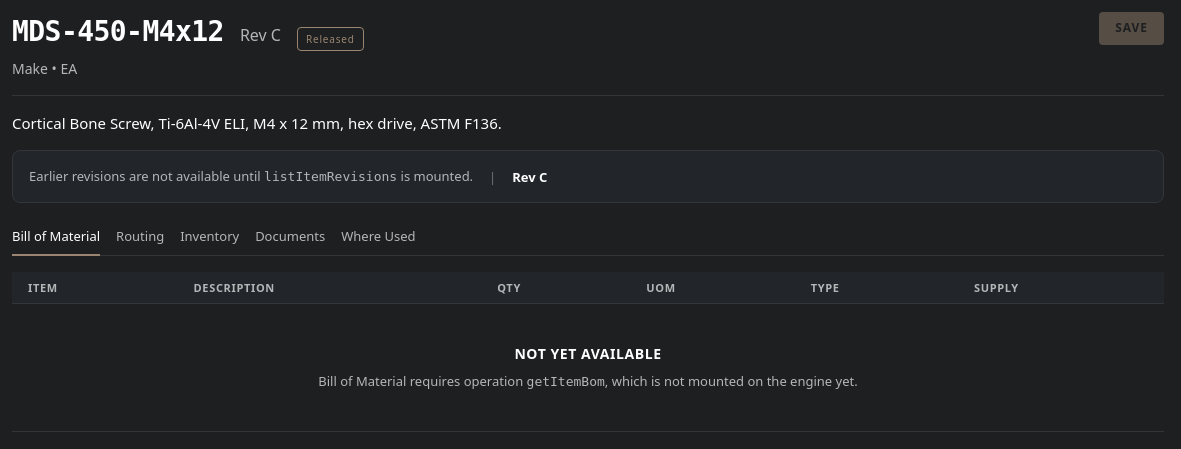
Test case: item master screen › shows a Not yet available state on the {"operationId":"getItemRouting","label":"Routing"} tab
The width and height of the screenshot is (1181, 449).
Expected: the heading "MDS-450-M4x12" is shown, [12,12,224,51]
What coordinates should you click on to do the following:
click the tab "Routing"
I would click on:
 (140, 238)
Its box is [116,220,164,256].
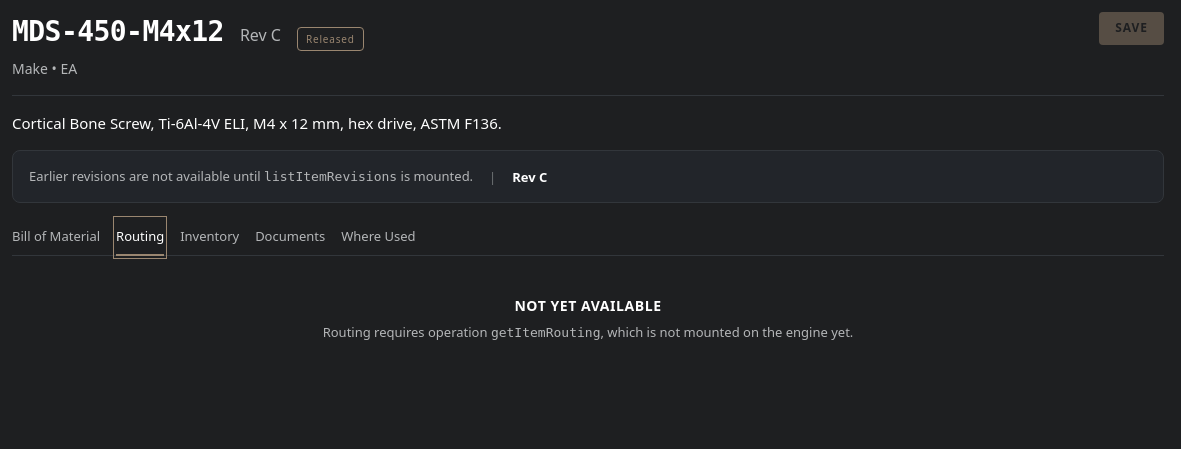
Expected: the text "getItemRouting" is shown, [491,325,600,340]
